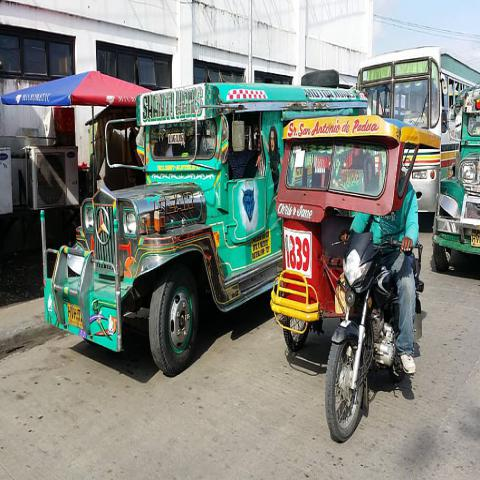bus: (352, 47, 480, 216)
motorcycle: (281, 119, 434, 438)
truck: (45, 76, 368, 359), (432, 86, 480, 277)
